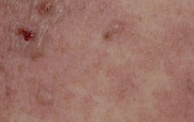SJS-TEN: (0, 0, 80, 67)
